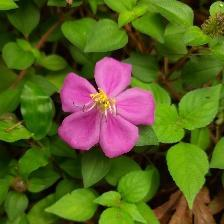malabar melastome: (59, 55, 159, 161)
